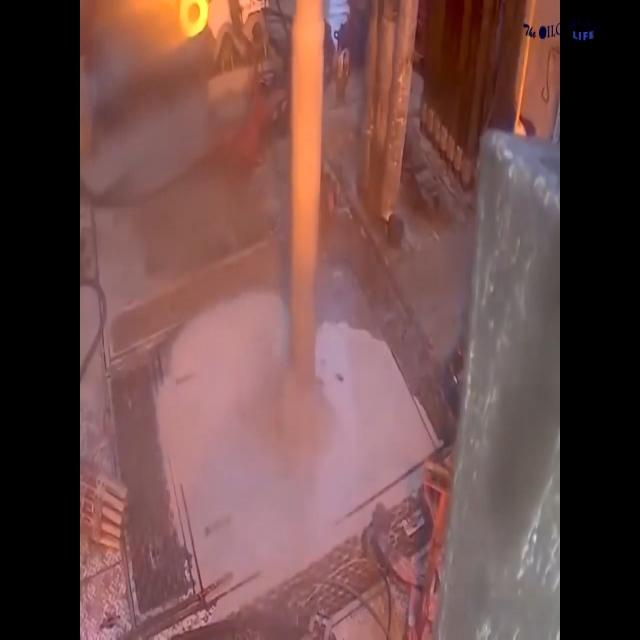spillage: (141, 276, 452, 627)
